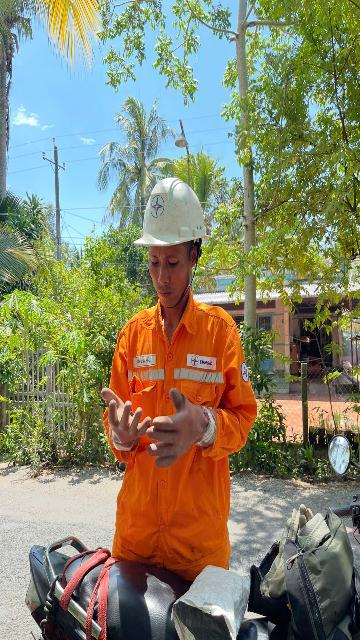gloves: (152, 378, 227, 474), (101, 388, 156, 464)
helmet: (133, 176, 231, 269)
